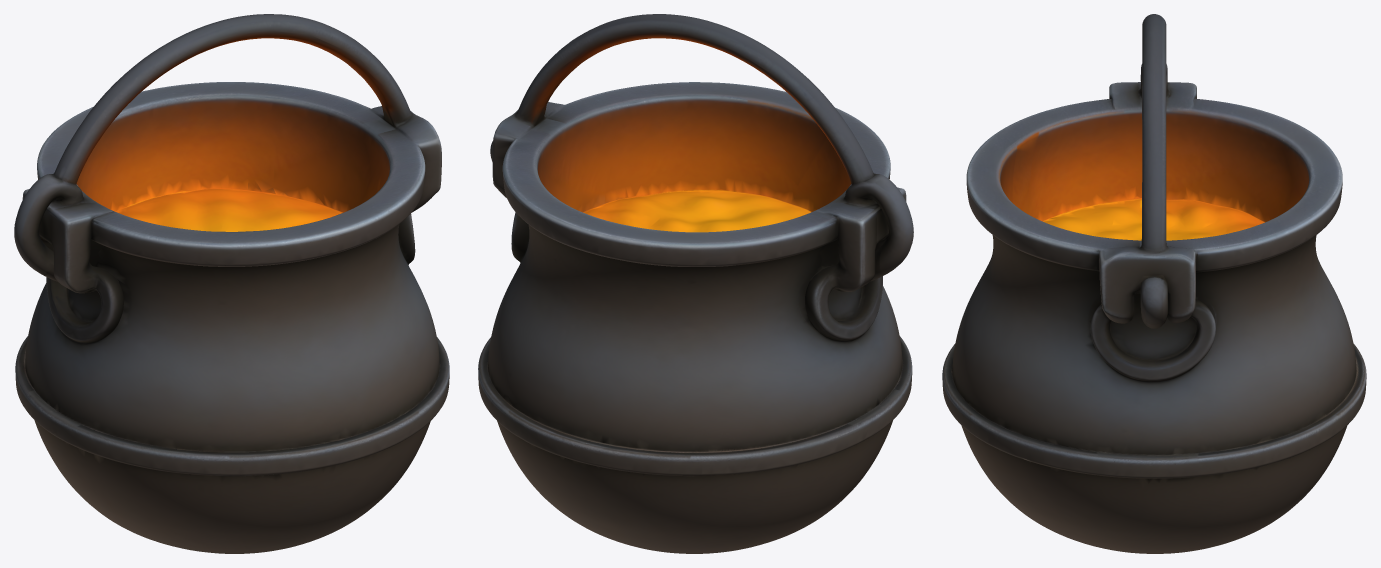
The model's file is moltedMetal.fbx.
3 renders of one model, left to right at view 1: azimuth 30°, elevation 25°; view 2: azimuth 150°, elevation 25°; view 3: azimuth 270°, elevation 25°, orthographic. The views are drawn at different scales.
Visible parts, largest first — view 1: node_0; view 2: node_0; view 3: node_0.
Part boxes in pixels (x1,y1,x2,y2): node_0: [14, 14, 449, 553]; node_0: [478, 14, 913, 553]; node_0: [942, 14, 1366, 553].
Bounding box in the file's own units: 103 × 119 × 92.65.
1 material, 1 textured.
